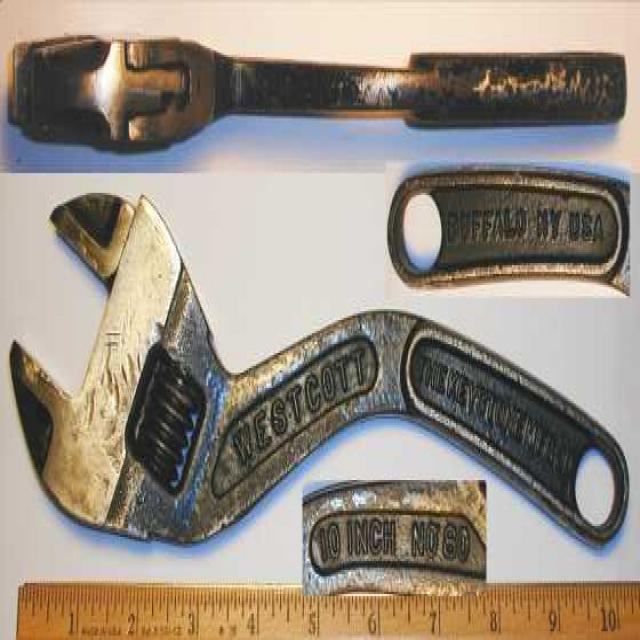wrench: (5, 182, 284, 553), (4, 26, 631, 163)
